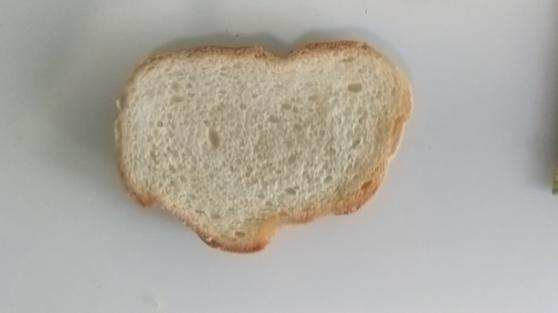white_bread: (118, 37, 409, 252)
